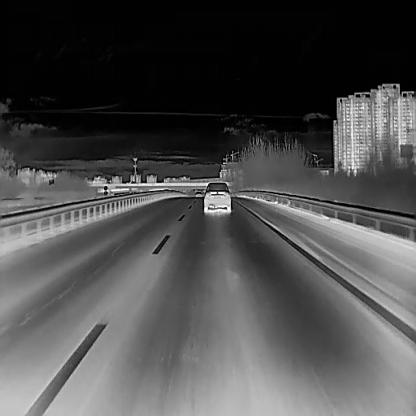car: (203, 181, 231, 212), (194, 191, 202, 196)
